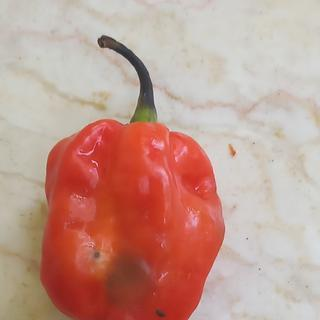Fly-bites: (88, 248, 108, 264), (153, 306, 169, 320)
